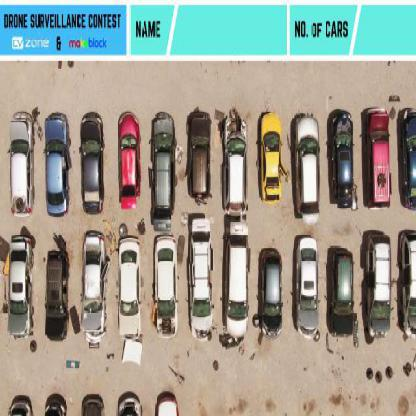car: (293, 118, 322, 221), (223, 223, 248, 340), (187, 218, 211, 338), (150, 116, 176, 226), (362, 108, 390, 210), (365, 235, 392, 338), (294, 239, 321, 340), (7, 113, 33, 217), (7, 234, 32, 342), (44, 116, 70, 218), (81, 234, 105, 344), (153, 236, 178, 339), (222, 116, 247, 213), (186, 110, 212, 203), (80, 116, 103, 215), (257, 114, 282, 204), (117, 236, 139, 338), (116, 113, 139, 208), (330, 247, 354, 338), (45, 251, 68, 342), (330, 113, 352, 208), (259, 251, 282, 340), (399, 107, 415, 213), (400, 230, 415, 338), (79, 396, 108, 415), (6, 397, 35, 415), (116, 396, 143, 415), (44, 396, 70, 415)
